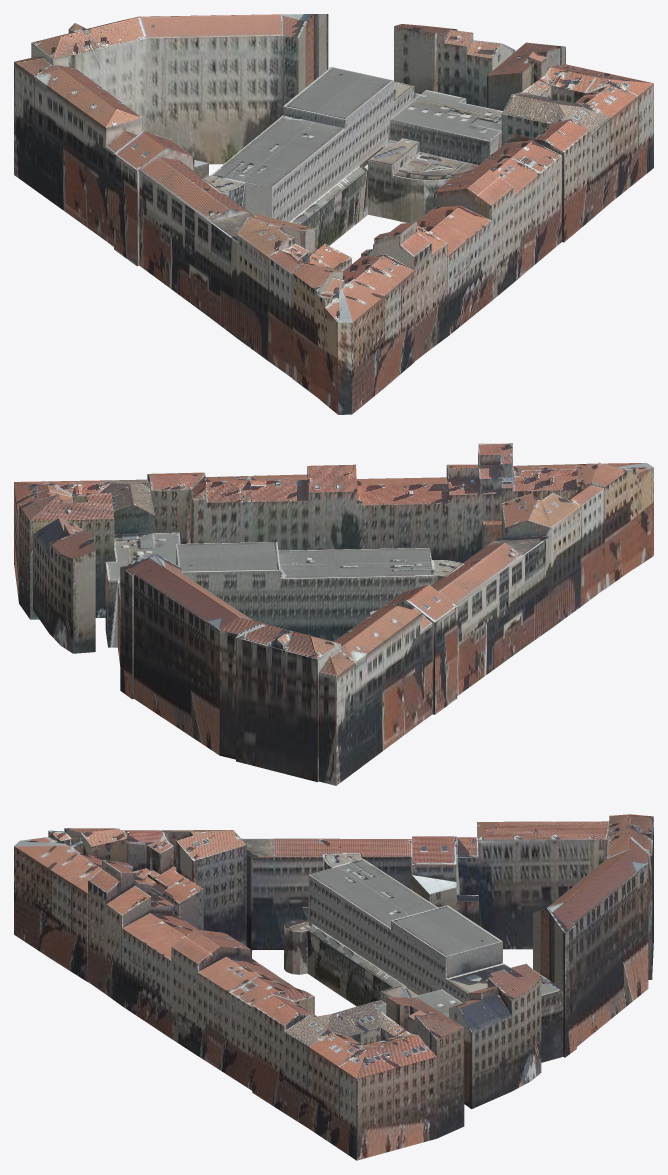
The model's file is LYON_1ER_00112.dae.
The picture shows the model from 3 angles, top to bottom: view 1: azimuth 30°, elevation 25°; view 2: azimuth 150°, elevation 25°; view 3: azimuth 270°, elevation 25°; orthographic projection. The views are drawn at different scales.
Size of the model in its own units: 133 by 156 by 36.96.
2 materials, 2 textured.
